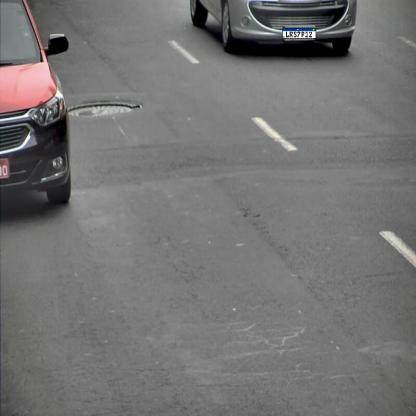PlacaM: (283, 28, 316, 39)
